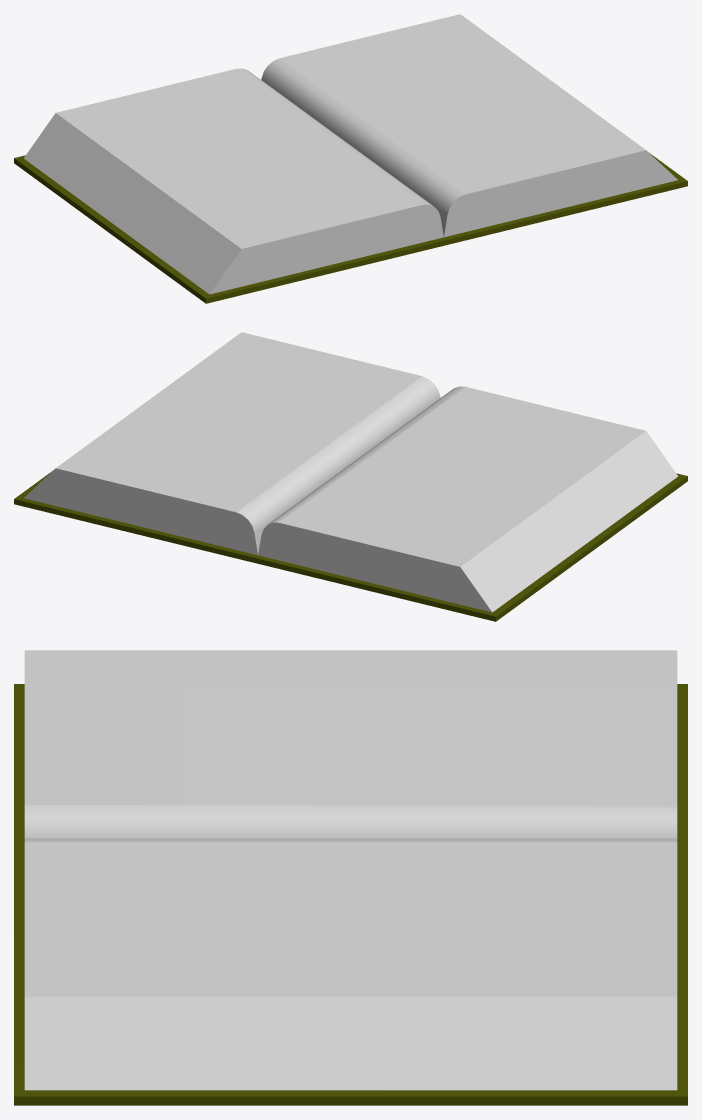
Rendered from Book_Open_Swamp_Green.fbx.
The picture shows the model from 3 angles, top to bottom: view 1: azimuth 30°, elevation 25°; view 2: azimuth 150°, elevation 25°; view 3: azimuth 270°, elevation 25°; orthographic projection. The views are drawn at different scales.
Parts seen in each view (by area): view 1: Book_Open_Swamp_Green; view 2: Book_Open_Swamp_Green; view 3: Book_Open_Swamp_Green.
Part boxes in pixels (left/top/right/bottom): Book_Open_Swamp_Green: left=14, top=14, right=687, bottom=303; Book_Open_Swamp_Green: left=14, top=332, right=687, bottom=621; Book_Open_Swamp_Green: left=14, top=650, right=687, bottom=1105.
Bounding box in the file's own units: 39.42 × 3.38 × 27.21.
